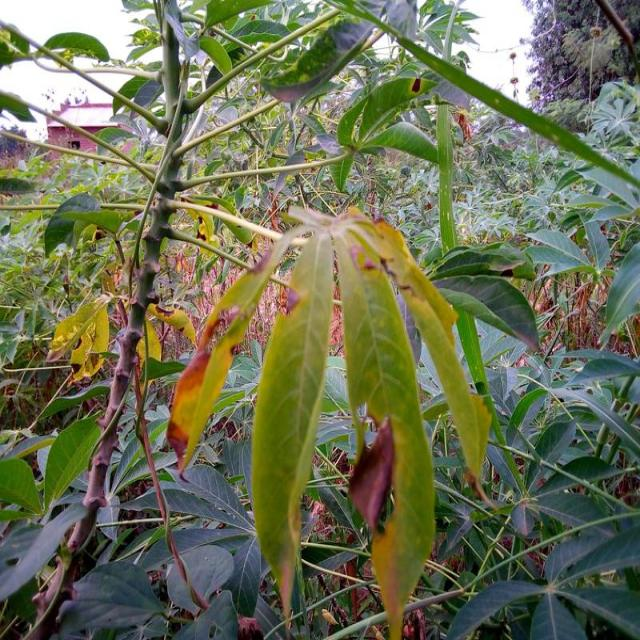cassava leaf: (334, 221, 436, 637), (250, 228, 334, 610)
